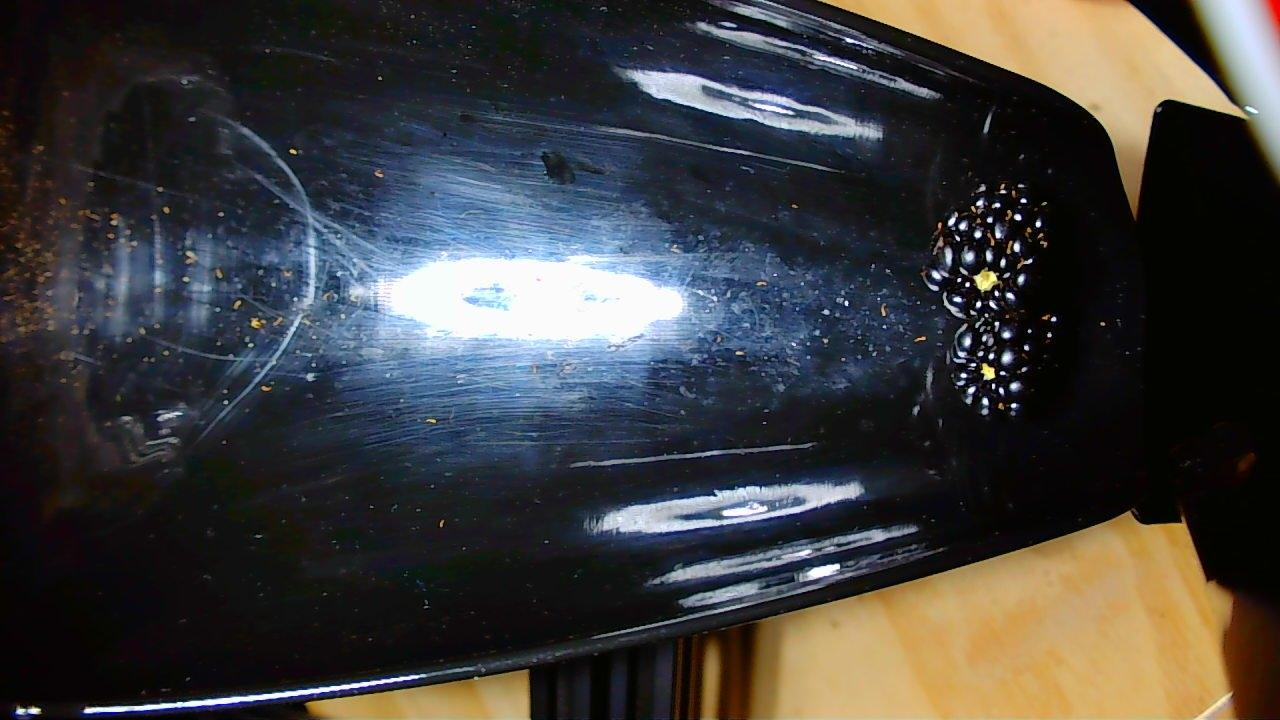berry: (930, 182, 1050, 318), (950, 319, 1041, 419)
